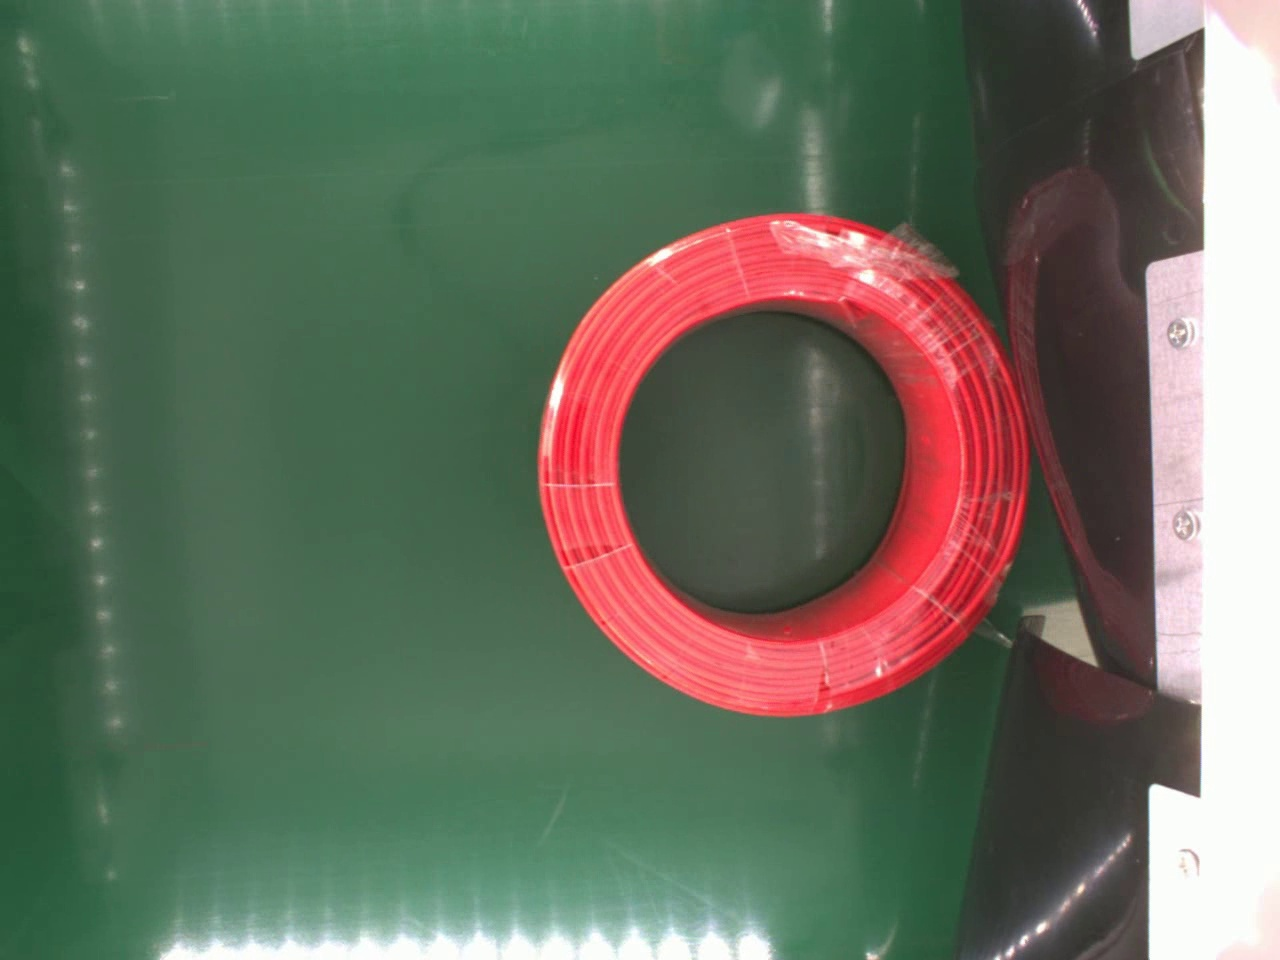red: (540, 205, 1036, 718)
